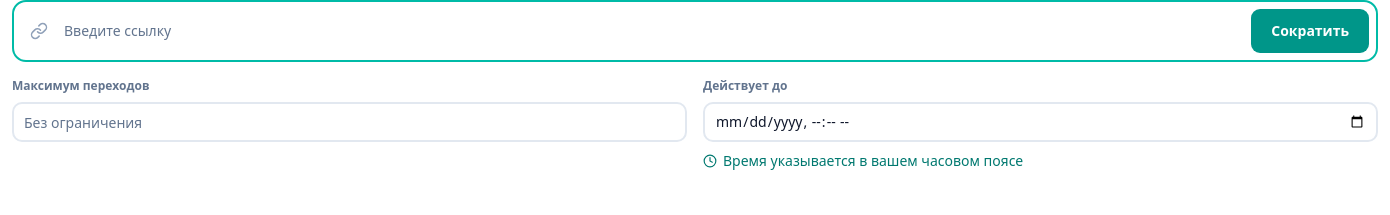
Test: CreateLinkForm › shows a validation error and does not send the request for a bad url
In the field named "Адрес ссылки": (646, 31) x1=48 y1=5 x2=1244 y2=57, type "example.com"
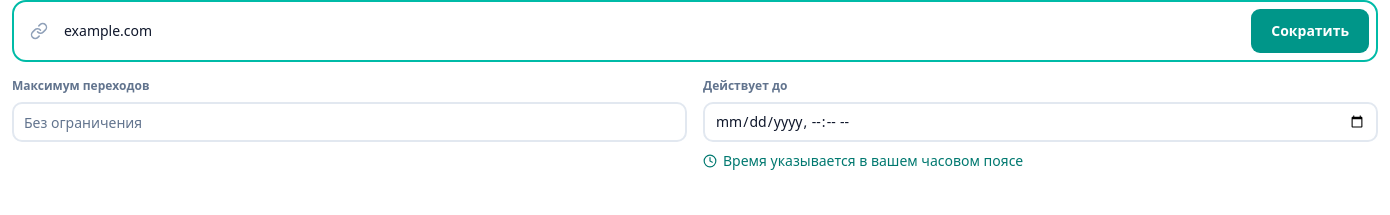
Click the button "Сократить": (1310, 31) x1=1250 y1=8 x2=1370 y2=54
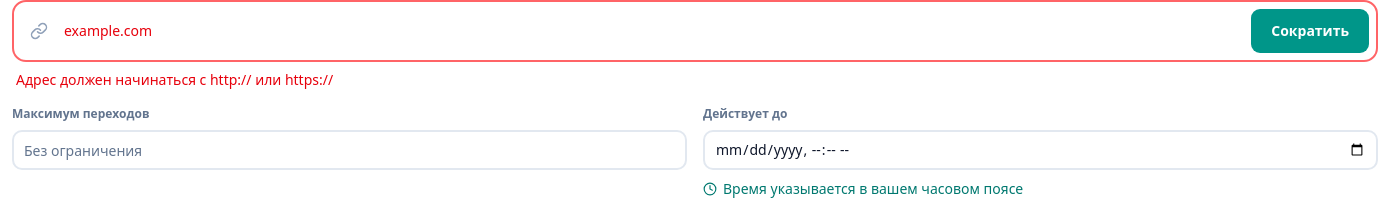
Check: the text "Адрес должен начинаться с http:// или https://" is shown, box x1=16 y1=70 x2=333 y2=89
